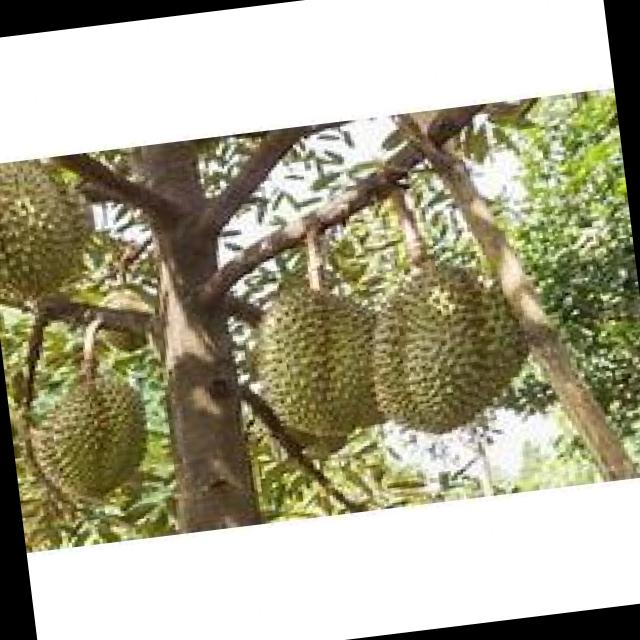fruit: (342, 228, 547, 450), (230, 250, 397, 462), (19, 351, 166, 521), (0, 151, 117, 326)
